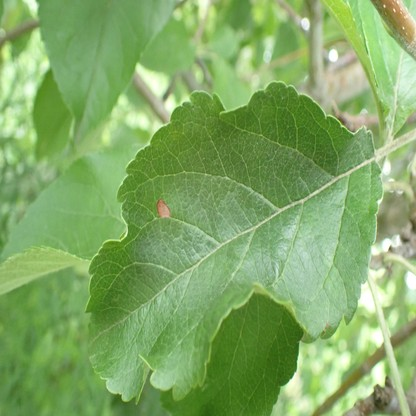frogeye_leaf_spot: (155, 198, 170, 218)
